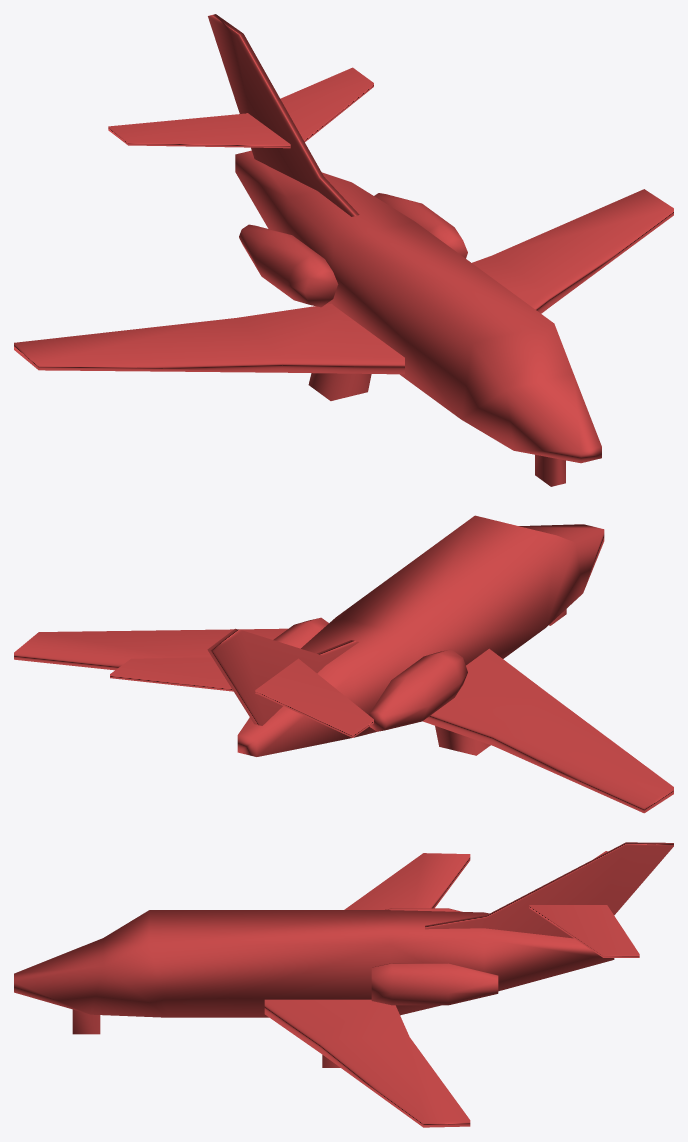
The model's file is privatjet1_colmesh.fbx.
3 renders of one model, top to bottom at view 1: azimuth 30°, elevation 25°; view 2: azimuth 150°, elevation 25°; view 3: azimuth 270°, elevation 25°, orthographic. The views are drawn at different scales.
Visible parts, largest first — view 1: body_main; view 2: body_main; view 3: body_main.
Part boxes in pixels (x1,y1,x2,y2): body_main: (14, 14, 673, 486); body_main: (14, 515, 673, 813); body_main: (14, 842, 673, 1127).
Size of the model in its own units: 1944 by 637 by 2021.
